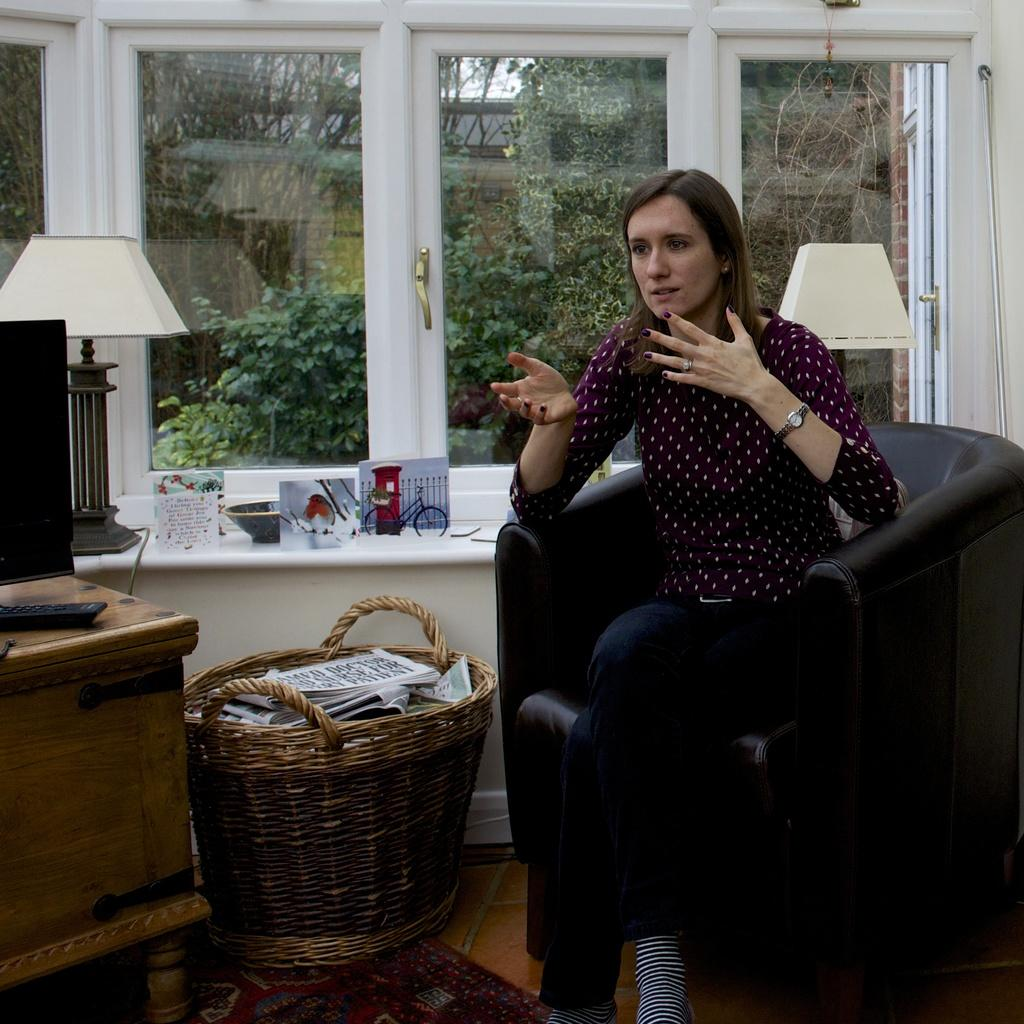Chair: (494, 420, 1023, 1020)
